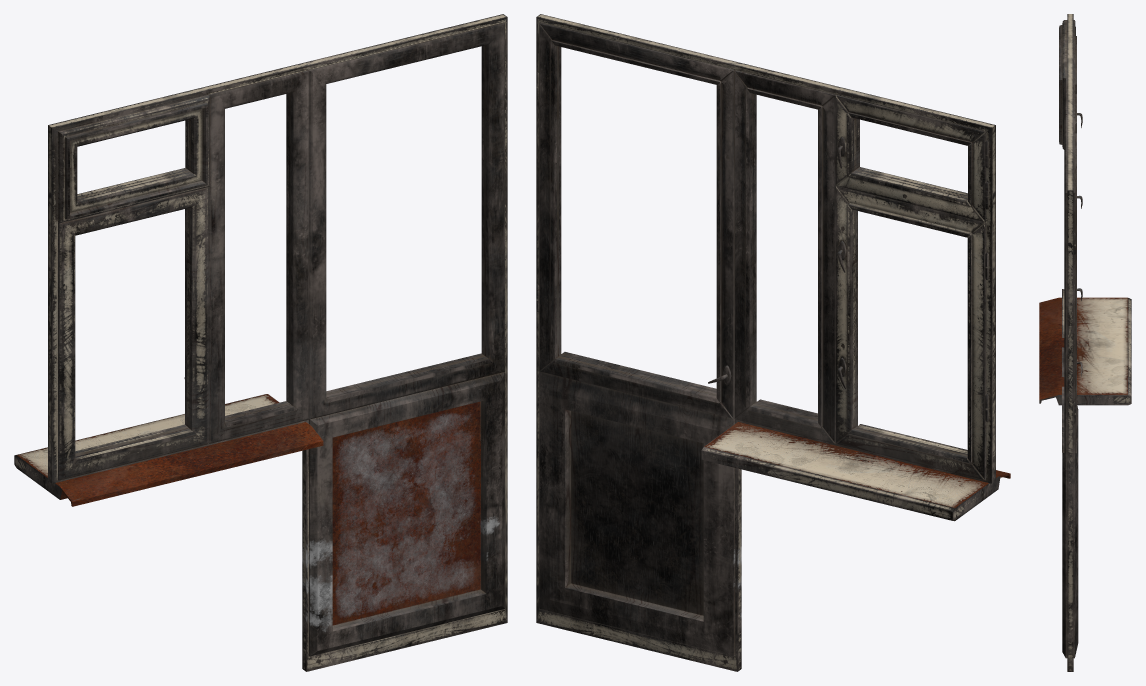
File: SM_BalconyDoorWindow01.FBX
3 renders of one model, left to right at view 1: azimuth 30°, elevation 25°; view 2: azimuth 150°, elevation 25°; view 3: azimuth 270°, elevation 25°, orthographic. The views are drawn at different scales.
Visible parts, largest first — view 1: SM_BalconyDoorWindow01_LOD0; view 2: SM_BalconyDoorWindow01_LOD0; view 3: SM_BalconyDoorWindow01_LOD0.
Boxes of the visible parts, left/top/right/bottom form: SM_BalconyDoorWindow01_LOD0: left=14, top=14, right=507, bottom=671; SM_BalconyDoorWindow01_LOD0: left=536, top=14, right=1010, bottom=671; SM_BalconyDoorWindow01_LOD0: left=1039, top=14, right=1131, bottom=671.
Bounding box in the file's own units: 181 × 39.96 × 230.
